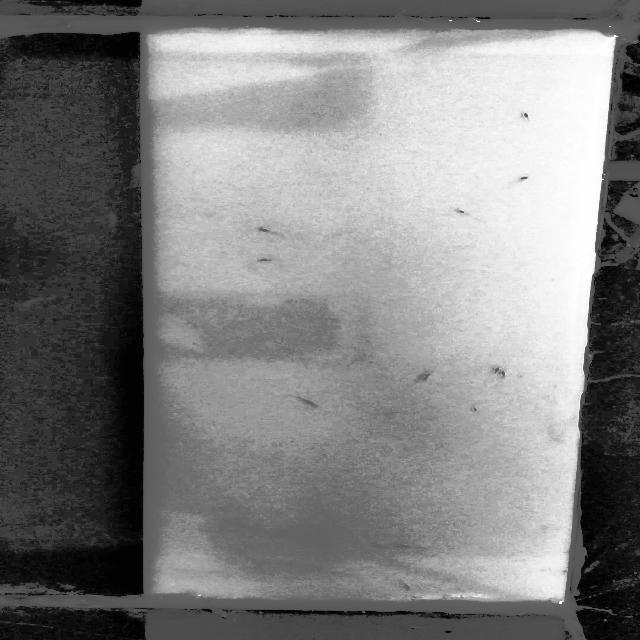shrimp: (286, 390, 327, 410), (253, 223, 294, 241), (409, 365, 439, 385), (451, 206, 483, 220), (506, 174, 540, 186), (482, 360, 503, 378), (392, 578, 419, 592), (517, 108, 543, 122), (386, 540, 416, 552), (370, 540, 394, 554), (467, 398, 486, 412), (258, 256, 278, 268), (500, 366, 510, 383)
